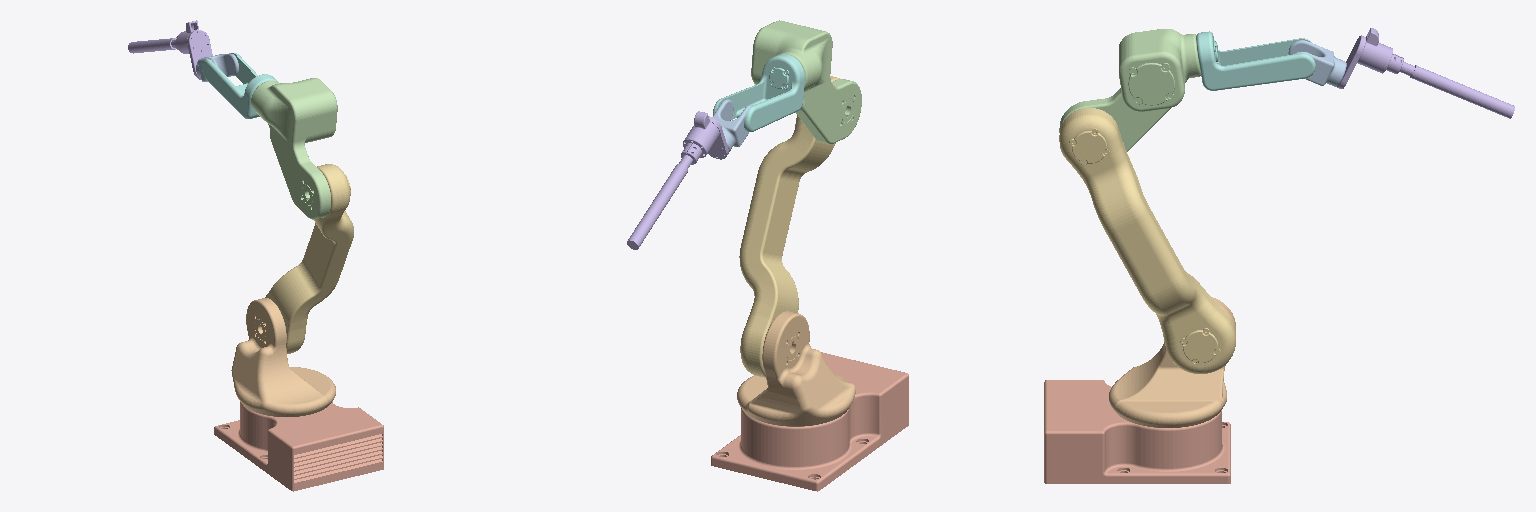
URDF robot description (sero_1):
<robot name="sero_1">
    <link name="world" />
    <joint name="fixed_link_to_world" type="fixed">
        <parent link="world" />
        <child link="base" />
    </joint>
    <link name="base">
        <visual>
            <origin xyz="1.8041124150158793782e-16 0.05566523198650896731 0" rpy="0 -0 0" />
            <geometry>
                <mesh filename="package://sero_1/meshes/base.stl" />
            </geometry>
            <material name="base_material">
                <color rgba="0.89019607843137249503 0.69803921568627447236 0.63921568627450975342 1.0" />
            </material>
        </visual>
        <collision>
            <origin xyz="1.8041124150158793782e-16 0.05566523198650896731 0" rpy="0 -0 0" />
            <geometry>
                <mesh filename="package://sero_1/meshes/base.stl" />
            </geometry>
        </collision>
        <inertial>
            <origin xyz="1.1000114868219835157e-10 0.02821395950736303726 0.048033342389235664238" rpy="0 0 0" />
            <mass value="35.08705239524790187" />
            <inertia ixx="0.23851697130036866867" ixy="2.720782460153843585e-10" ixz="-1.0025050005633659025e-10" iyy="0.15387922346861418466" iyz="0.0068756425646022177947" izz="0.32171277328667874373" />
        </inertial>
    </link>
    <link name="link_1">
        <visual>
            <origin xyz="-3.4165628273044953481e-23 4.4252861730203675289e-18 0" rpy="3.141592653589793116 8.8261758232621279394e-33 1.694065894508600302e-21" />
            <geometry>
                <mesh filename="package://sero_1/meshes/link_1.stl" />
            </geometry>
            <material name="link_1_material">
                <color rgba="0.92156862745098033773 0.80000000000000004441 0.65490196078431373028 1.0" />
            </material>
        </visual>
        <collision>
            <origin xyz="-3.4165628273044953481e-23 4.4252861730203675289e-18 0" rpy="3.141592653589793116 8.8261758232621279394e-33 1.694065894508600302e-21" />
            <geometry>
                <mesh filename="package://sero_1/meshes/link_1.stl" />
            </geometry>
        </collision>
        <inertial>
            <origin xyz="-0.015239689133278312705 -0.021586960622581662095 -0.052922200956408961547" rpy="0 0 0" />
            <mass value="18.368766956758115327" />
            <inertia ixx="0.091881923345227628497" ixy="-0.003928507823349794946" ixz="-0.0058549145264777261236" iyy="0.077315975512156784322" iyz="-0.018619533982869217181" izz="0.081329742201552590597" />
        </inertial>
    </link>
    <link name="link_2">
        <visual>
            <origin xyz="-1.3877787807814456755e-17 2.7755575615628913511e-17 1.0587911840678754238e-22" rpy="3.141592653589793116 8.4703294725430033907e-22 -5.5511151231257827021e-17" />
            <geometry>
                <mesh filename="package://sero_1/meshes/link_2.stl" />
            </geometry>
            <material name="link_2_material">
                <color rgba="0.94117647058823528106 0.87450980392156862919 0.67843137254901964006 1.0" />
            </material>
        </visual>
        <collision>
            <origin xyz="-1.3877787807814456755e-17 2.7755575615628913511e-17 1.0587911840678754238e-22" rpy="3.141592653589793116 8.4703294725430033907e-22 -5.5511151231257827021e-17" />
            <geometry>
                <mesh filename="package://sero_1/meshes/link_2.stl" />
            </geometry>
        </collision>
        <inertial>
            <origin xyz="-9.7069511742337241048e-09 0.21218755221227947327 -0.047778672194228995196" rpy="0 0 0" />
            <mass value="23.673948033547031145" />
            <inertia ixx="0.6558161243846677424" ixy="-4.2793701182063200488e-08" ixz="1.457960283351658051e-08" iyy="0.037401631785456156132" iyz="0.0087992679245661176157" izz="0.65336519359711076049" />
        </inertial>
    </link>
    <link name="link_3">
        <visual>
            <origin xyz="-1.3877787807814456755e-17 0 -0.02999999999999999542" rpy="0 1.6940658945086006781e-21 0" />
            <geometry>
                <mesh filename="package://sero_1/meshes/link_3.stl" />
            </geometry>
            <material name="link_3_material">
                <color rgba="0.79607843137254896693 0.90588235294117647189 0.74509803921568629193 1.0" />
            </material>
        </visual>
        <collision>
            <origin xyz="-1.3877787807814456755e-17 0 -0.02999999999999999542" rpy="0 1.6940658945086006781e-21 0" />
            <geometry>
                <mesh filename="package://sero_1/meshes/link_3.stl" />
            </geometry>
        </collision>
        <inertial>
            <origin xyz="0.11674575857875565954 0.092289914347079254897 0.0096232090141137420491" rpy="0 0 0" />
            <mass value="17.046409404154786671" />
            <inertia ixx="0.074800627899214822136" ixy="-0.036857779963696414571" ixz="-0.0059546580572337063156" iyy="0.07889465668196611603" iyz="-0.011906977912637863731" izz="0.11406256275854873006" />
        </inertial>
    </link>
    <link name="link_4">
        <visual>
            <origin xyz="0 0 2.7755575615628913511e-17" rpy="-3.141592653589793116 -0 2.1175823681357508477e-22" />
            <geometry>
                <mesh filename="package://sero_1/meshes/link_4.stl" />
            </geometry>
            <material name="link_4_material">
                <color rgba="0.73725490196078435901 0.9372549019607843146 0.91764705882352937127 1.0" />
            </material>
        </visual>
        <collision>
            <origin xyz="0 0 2.7755575615628913511e-17" rpy="-3.141592653589793116 -0 2.1175823681357508477e-22" />
            <geometry>
                <mesh filename="package://sero_1/meshes/link_4.stl" />
            </geometry>
        </collision>
        <inertial>
            <origin xyz="3.2977564252776502989e-09 -0.02702676809649579362 -0.062304227824277469416" rpy="0 0 0" />
            <mass value="3.4104383191089318039" />
            <inertia ixx="0.013598205960530259859" ixy="3.5112585730628976798e-10" ixz="-2.2034950615846304763e-10" iyy="0.013866957658279771906" iyz="-0.0019762165524031542925" izz="0.0046399785925361671651" />
        </inertial>
    </link>
    <link name="link_5">
        <visual>
            <origin xyz="0 0 -0.058999999999999996891" rpy="0 -0 0" />
            <geometry>
                <mesh filename="package://sero_1/meshes/link_5.stl" />
            </geometry>
            <material name="link_5_material">
                <color rgba="0.76078431372549015776 0.83921568627450982003 0.92549019607843141522 1.0" />
            </material>
        </visual>
        <collision>
            <origin xyz="0 0 -0.058999999999999996891" rpy="0 -0 0" />
            <geometry>
                <mesh filename="package://sero_1/meshes/link_5.stl" />
            </geometry>
        </collision>
        <inertial>
            <origin xyz="-4.0468429552451979308e-09 0.039174510825137690007 -0.029499999335107222193" rpy="0 0 0" />
            <mass value="1.3085442124892889826" />
            <inertia ixx="0.0013064926249374241018" ixy="9.912058132376598351e-11" ixz="-1.9731401884078835894e-09" iyy="0.0006855126077186873227" iyz="-5.917739079764238076e-12" izz="0.0010923022573062720654" />
        </inertial>
    </link>
    <link name="endeffector">
        <visual>
            <origin xyz="0 -0.060000000000000053291 -0.010000000000000008882" rpy="-3.141592653589793116 -0 -4.2351647362715007549e-22" />
            <geometry>
                <mesh filename="package://sero_1/meshes/endeffector.stl" />
            </geometry>
            <material name="endeffector_material">
                <color rgba="0.80000000000000004441 0.74901960784313725839 0.91372549019607840481 1.0" />
            </material>
        </visual>
        <collision>
            <origin xyz="0 -0.060000000000000053291 -0.010000000000000008882" rpy="-3.141592653589793116 -0 -4.2351647362715007549e-22" />
            <geometry>
                <mesh filename="package://sero_1/meshes/endeffector.stl" />
            </geometry>
        </collision>
        <inertial>
            <origin xyz="-2.007927628673531952e-08 -0.055461111974627962107 -0.097485938408557723522" rpy="0 0 0" />
            <mass value="2.2359613690447335266" />
            <inertia ixx="0.020791268849754438591" ixy="-8.8059871773682104797e-10" ixz="1.914123719498550581e-10" iyy="0.020196057963709122818" iyz="-0.00095402857951714054117" izz="0.0010816277361651634864" />
        </inertial>
    </link>
    <joint name="jendeffector" type="revolute">
        <origin xyz="1.1102230246251565404e-16 0.079999999999999960032 -0.029499999999999998446" rpy="1.5707963267948892305 -1.5707963265184670121 0" />
        <parent link="link_5" />
        <child link="endeffector" />
        <axis xyz="0 0 1" />
        <limit effort="1000" velocity="1.02" lower="-3.141592653589793116" upper="3.141592653589793116" />
        <dynamics damping="1.0" friction="1.0" />
    </joint>
    <joint name="j5" type="revolute">
        <origin xyz="-0.030000000000000016237 -0.035000000000000142109 -0.18499999999999999778" rpy="-1.570796326794896558 0.57407536946603265893 1.57079632679489678" />
        <parent link="link_4" />
        <child link="link_5" />
        <axis xyz="0 0 1" />
        <limit effort="1000" velocity="1.01" lower="-2.5" upper="1.7" />
        <dynamics damping="1.0" friction="1.0" />
    </joint>
    <joint name="j4" type="revolute">
        <origin xyz="0.22000000000000002887 0.12083333333333334814 -0.016980779096484183155" rpy="-1.5707963268408067226 -1.5707952499523358814 1.5707963267450772982" />
        <parent link="link_3" />
        <child link="link_4" />
        <axis xyz="0 0 1" />
        <limit effort="1000" velocity="1.03" lower="-3.141592653589793116" upper="3.141592653589793116" />
        <dynamics damping="1.0" friction="1.0" />
    </joint>
    <joint name="j3" type="revolute">
        <origin xyz="0 0.44999999999999995559 1.2533970036995509267e-18" rpy="3.141592653589793116 3.529925104387571233e-17 -2.8217730704100758565" />
        <parent link="link_2" />
        <child link="link_3" />
        <axis xyz="0 0 1" />
        <limit effort="1000" velocity="1.17" lower="-1.35" upper="2.5" />
        <dynamics damping="1.0" friction="1.0" />
    </joint>
    <joint name="j2" type="revolute">
        <origin xyz="0 -0.060000000000000004718 -0.14500000000000001776" rpy="-1.570796326794896558 -0.46704913247174045798 1.570796326794896336" />
        <parent link="link_1" />
        <child link="link_2" />
        <axis xyz="0 0 1" />
        <limit effort="9000" velocity="100" lower="-1.4" upper="2" />
        <dynamics damping="1.0" friction="1.0" />
    </joint>
    <joint name="j1" type="revolute">
        <origin xyz="1.8041113859237242606e-16 0.055665231986508988127 0.10499999999999999611" rpy="-3.1415926535897926719 6.8688042396975808885e-17 8.1606641769779487982e-06" />
        <parent link="base" />
        <child link="link_1" />
        <axis xyz="0 0 1" />
        <limit effort="1000" velocity="1.18" lower="-3.141592653589793116" upper="3.141592653589793116" />
        <dynamics damping="1.0" friction="1.0" />
    </joint>

    <transmission name="trans_jendeffector">
        <type>transmission_interface/SimpleTransmission</type>
        <joint name="jendeffector">
            <hardwareInterface>hardware_interface/PositionJointInterface</hardwareInterface>
        </joint>
        <actuator name="jendeffector_motor">
            <hardwareInterface>hardware_interface/PositionJointInterface</hardwareInterface>
            <mechanicalReduction>1</mechanicalReduction>
        </actuator>
    </transmission>
    <transmission name="trans_j5">
        <type>transmission_interface/SimpleTransmission</type>
        <joint name="j5">
            <hardwareInterface>hardware_interface/PositionJointInterface</hardwareInterface>
        </joint>
        <actuator name="j5_motor">
            <hardwareInterface>hardware_interface/PositionJointInterface</hardwareInterface>
            <mechanicalReduction>1</mechanicalReduction>
        </actuator>
    </transmission>
    <transmission name="trans_j4">
        <type>transmission_interface/SimpleTransmission</type>
        <joint name="j4">
            <hardwareInterface>hardware_interface/PositionJointInterface</hardwareInterface>
        </joint>
        <actuator name="j4_motor">
            <hardwareInterface>hardware_interface/PositionJointInterface</hardwareInterface>
            <mechanicalReduction>1</mechanicalReduction>
        </actuator>
    </transmission>
    <transmission name="trans_j3">
        <type>transmission_interface/SimpleTransmission</type>
        <joint name="j3">
            <hardwareInterface>hardware_interface/PositionJointInterface</hardwareInterface>
        </joint>
        <actuator name="j3_motor">
            <hardwareInterface>hardware_interface/PositionJointInterface</hardwareInterface>
            <mechanicalReduction>1</mechanicalReduction>
        </actuator>
    </transmission>
    <transmission name="trans_j2">
        <type>transmission_interface/SimpleTransmission</type>
        <joint name="j2">
            <hardwareInterface>hardware_interface/PositionJointInterface</hardwareInterface>
        </joint>
        <actuator name="j2_motor">
            <hardwareInterface>hardware_interface/PositionJointInterface</hardwareInterface>
            <mechanicalReduction>1</mechanicalReduction>
        </actuator>
    </transmission>
    <transmission name="trans_j1">
        <type>transmission_interface/SimpleTransmission</type>
        <joint name="j1">
            <hardwareInterface>hardware_interface/PositionJointInterface</hardwareInterface>
        </joint>
        <actuator name="j1_motor">
            <hardwareInterface>hardware_interface/PositionJointInterface</hardwareInterface>
            <mechanicalReduction>1</mechanicalReduction>
        </actuator>
    </transmission>
    
    <gazebo>
        <plugin name="control" filename="libgazebo_ros_control.so">
            <robotNamespace>/sero_1</robotNamespace>
            <robotParam>/sero_1/robot_description</robotParam>
        </plugin>
    </gazebo> 
    <gazebo>
        <plugin name="joint_state_publisher" filename="libgazebo_ros_joint_state_publisher.so">
            <jointName>j1, j2, j3, j4, j5, jendeffector</jointName>
            <updateRate>100.0</updateRate>
        </plugin>
    </gazebo>

</robot>

--- Facts derived from the render (not from the file) ---
3 views of the same robot in one strip: view 1: azimuth 30°, elevation 25°; view 2: azimuth 150°, elevation 25°; view 3: azimuth 270°, elevation 25° (orthographic).
Model sero_1 with 8 links and 7 joints (6 revolute, 1 fixed), rooted at world, posed every joint at zero.
Visible links, largest first — view 1: base, link_1, link_3, link_2, link_4, endeffector, link_5; view 2: base, link_2, link_1, link_3, link_4, endeffector, link_5; view 3: link_2, base, link_3, link_1, link_4, endeffector, link_5.
Boxes of the visible links, left/top/right/bottom form: base: left=214, top=401, right=383, bottom=491; link_1: left=231, top=298, right=335, bottom=416; link_3: left=251, top=78, right=337, bottom=219; link_2: left=265, top=164, right=353, bottom=353; link_4: left=202, top=53, right=277, bottom=118; endeffector: left=128, top=20, right=212, bottom=79; link_5: left=196, top=53, right=238, bottom=81; base: left=711, top=352, right=908, bottom=491; link_2: left=739, top=76, right=839, bottom=377; link_1: left=737, top=311, right=855, bottom=426; link_3: left=751, top=20, right=861, bottom=143; link_4: left=713, top=54, right=804, bottom=131; endeffector: left=627, top=111, right=728, bottom=249; link_5: left=713, top=99, right=752, bottom=151; link_2: left=1059, top=108, right=1235, bottom=373; base: left=1044, top=380, right=1230, bottom=483; link_3: left=1059, top=29, right=1200, bottom=151; link_1: left=1109, top=297, right=1235, bottom=427; link_4: left=1196, top=31, right=1315, bottom=90; endeffector: left=1337, top=28, right=1514, bottom=118; link_5: left=1288, top=40, right=1346, bottom=86.
Size in the robot's own frame: 0.23 by 0.86 by 0.8538 metres.
7 mesh visuals loaded from 7 distinct referenced files (7 binary STL).
